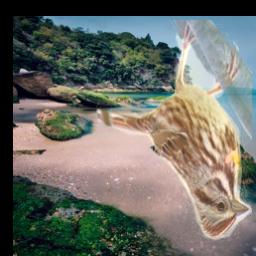Sparrow: (93, 21, 251, 243)
